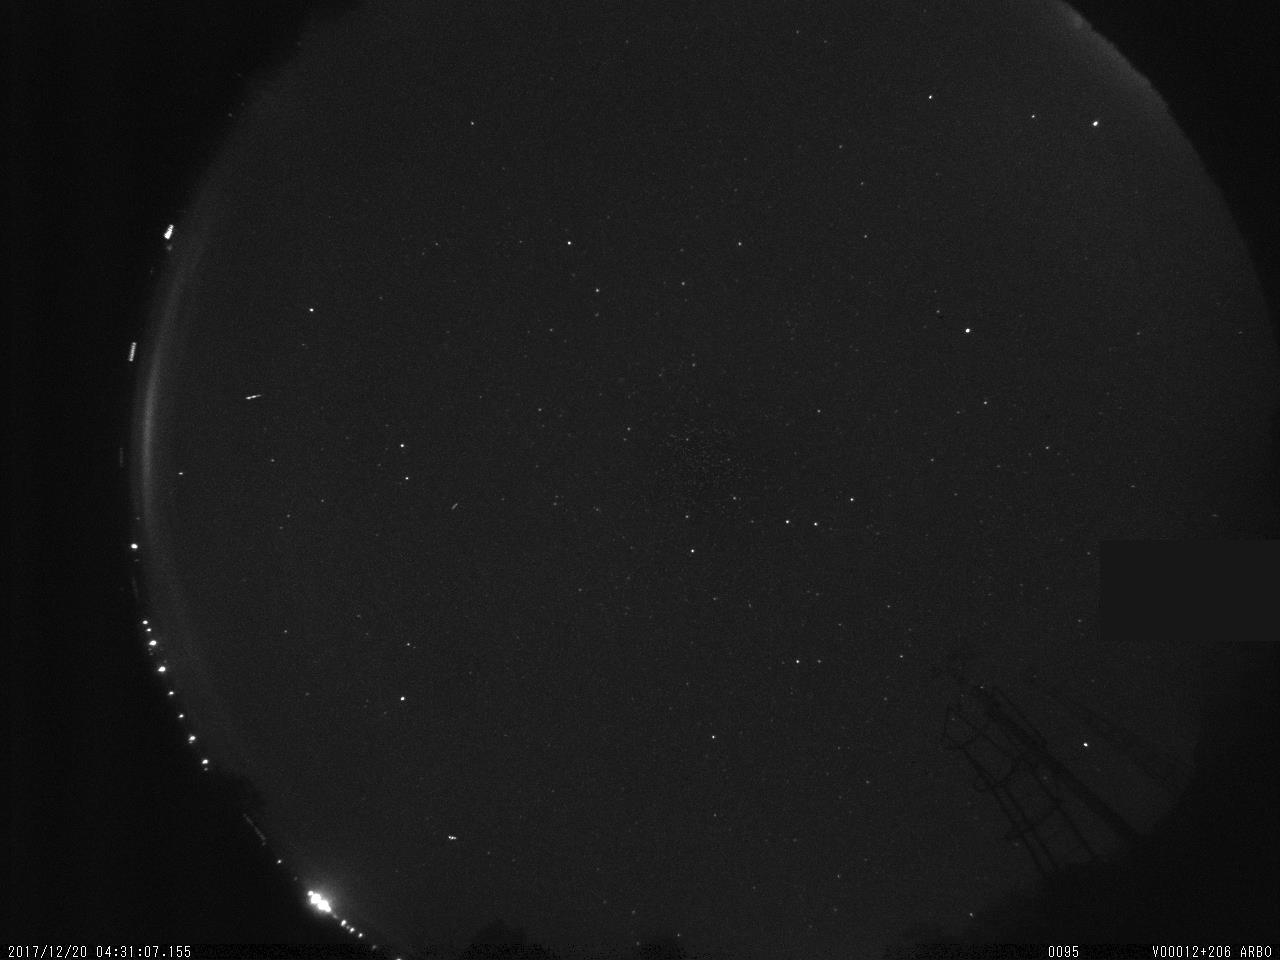meteor: (231, 371, 276, 414)
